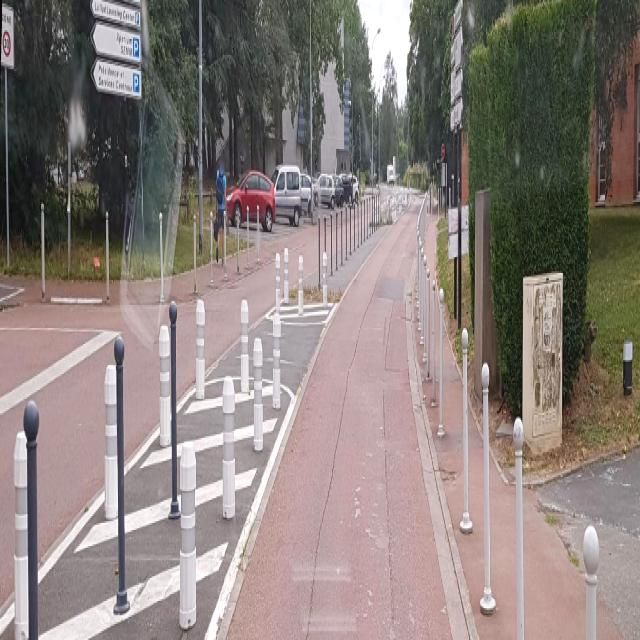speed_30: (2, 31, 10, 57)
